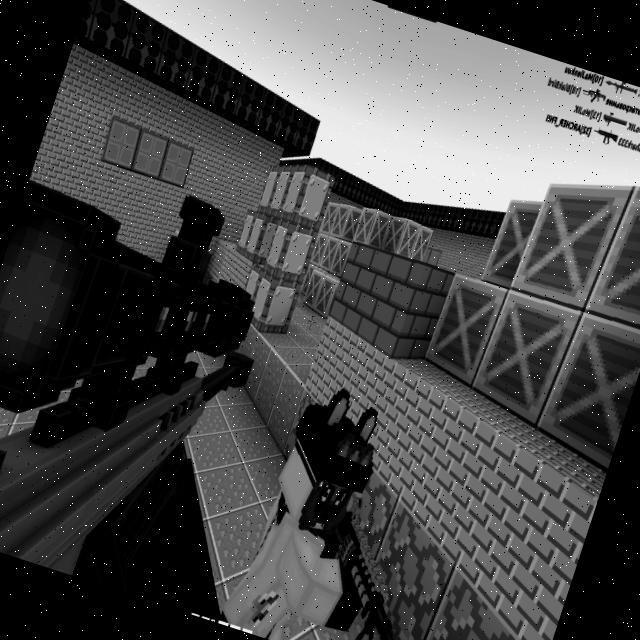Head: (265, 377, 395, 546)
Player: (216, 371, 518, 640)
